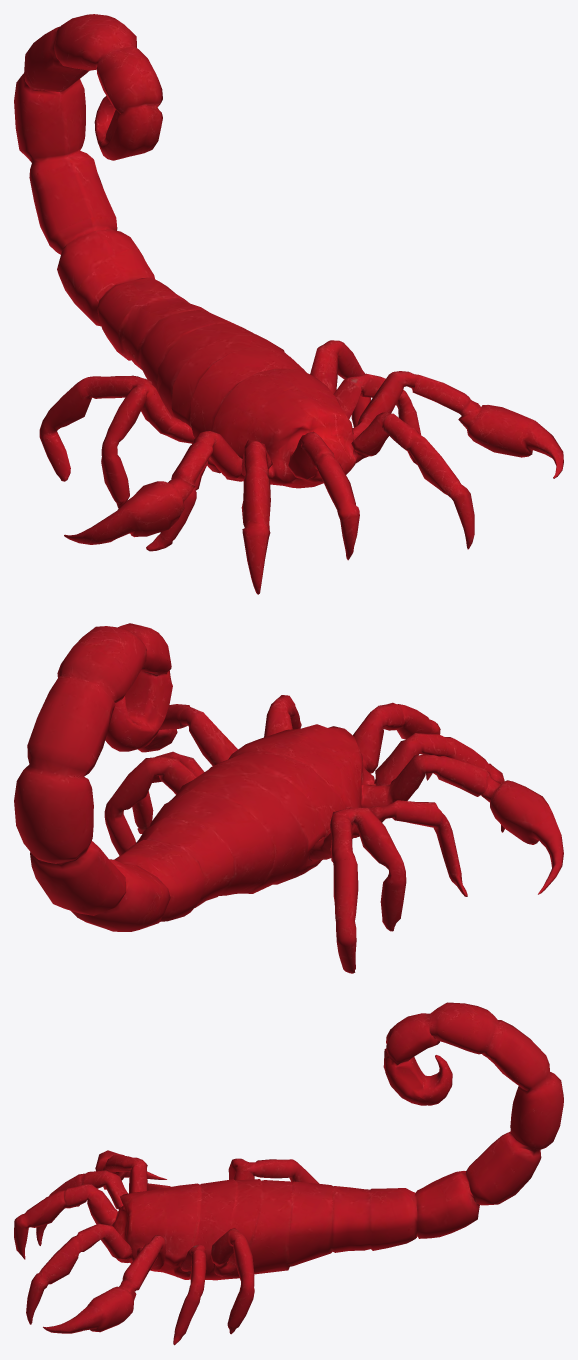
File: scorpion.glb
3 renders of one model, top to bottom at view 1: azimuth 30°, elevation 25°; view 2: azimuth 150°, elevation 25°; view 3: azimuth 270°, elevation 25°, orthographic. The views are drawn at different scales.
Size of the model in its own units: 0.6998 by 0.5429 by 0.958.
1 material, 1 textured.
